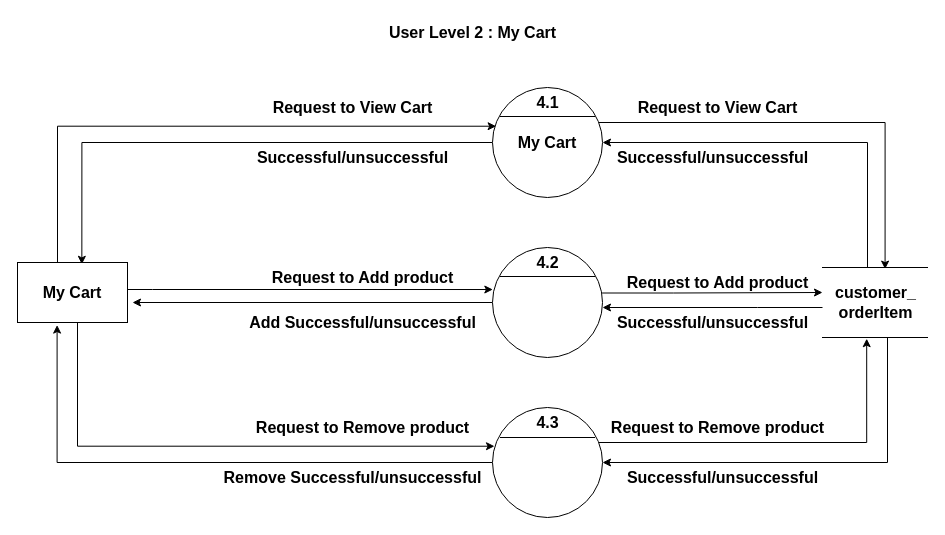
Image size: 945x535. Some labels were removed from this diagram. Here are the shapes that lost their labels. From the top down, the box of each, then its label:
(492, 246, 602, 358): Add product
(492, 406, 602, 518): Remove product
